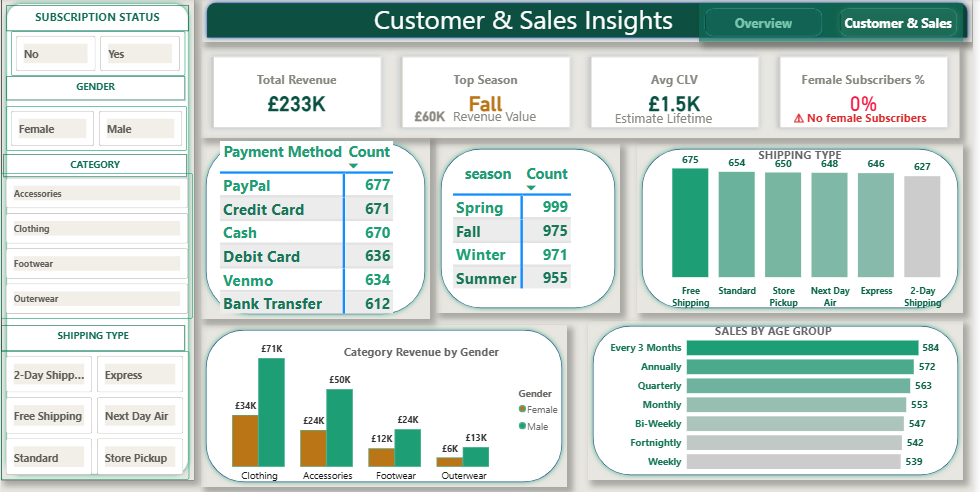

This screenshot's page, from the dashboard's own definition file:
{"tool":"powerbi","page":{"name":"Customer & Sales","canvas":[1600,820],"ordinal":1},"visuals":[{"type":"cardVisual","fields":{"Data":["customer_data._Total Revenue","customer_data.Top Season","customer_data.Avg CLV","customer_data.Female Subscribers %"]},"box":[330,80.3,1248.6,149.8],"z":0},{"type":"shape","box":[331.8,0,1268.2,73.1],"z":1000},{"type":"textbox","box":[309.6,0,1101.6,72.4],"z":2000},{"type":"textbox","box":[1300.3,180.2,283.6,51.7],"z":3000},{"type":"shape","box":[1047.2,240.4,536.8,278.3],"z":6000},{"type":"textbox","box":[972.1,178.4,239,51.7],"z":7000},{"type":"clusteredColumnChart","fields":{"Category":["customer_data.shipping_type"],"Y":["CountNonNull(customer_data.shipping_type)"]},"box":[1058.8,240.4,525.3,278.3],"z":8000},{"type":"shape","box":[329.3,538.4,602.7,266.7],"z":9000},{"type":"textbox","box":[1142.7,240.4,345.8,51],"z":10000},{"type":"shape","box":[329.3,230.5,377.1,298],"z":11000},{"type":"clusteredColumnChart","fields":{"Category":["customer_data.category"],"Series":["customer_data.gender"],"Y":["customer_data._Total Revenue"]},"box":[331.8,551.2,601.1,255.1],"z":12000},{"type":"textbox","box":[553.3,564.8,278.3,52.7],"z":13000},{"type":"shape","box":[966.5,531.8,617.5,261.8],"z":16000},{"type":"shape","box":[0,0,317.8,793.7],"z":18000},{"type":"advancedSlicerVisual","fields":{"Values":["customer_data.subscription_status"]},"box":[16.5,54.3,286.5,74.1],"z":19000},{"type":"textbox","box":[1132.9,530.2,278.3,51],"z":20000},{"type":"textbox","box":[0,538.4,303,42.8],"z":21000},{"type":"textbox","box":[3.3,256.9,303,37.9],"z":22000},{"type":"textbox","box":[8.2,128.4,294.7,39.5],"z":23000},{"type":"textbox","box":[8.2,11.5,301.3,42.8],"z":24000},{"type":"advancedSlicerVisual","fields":{"Values":["customer_data.gender"]},"box":[8.2,177.8,298,74.1],"z":27000},{"type":"advancedSlicerVisual","fields":{"Values":["customer_data.category"]},"box":[0,288.2,316.1,240.4],"z":28000},{"type":"advancedSlicerVisual","fields":{"Values":["customer_data.shipping_type"]},"box":[0,581.2,309.6,212.4],"z":29000},{"type":"pageNavigator","box":[1149.3,8.2,434.7,64.2],"z":30001},{"type":"card","fields":{"Values":["customer_data.Top Season Revenue"]},"box":[645.7,174.8,121.3,41],"z":30002},{"type":"textbox","box":[693.9,174.8,239,51.7],"z":30003},{"type":"pivotTable","fields":{"Rows":["customer_data.payment_method"],"Values":["CountNonNull(customer_data.payment_method)"]},"box":[355.7,230.5,360.6,299.7],"z":30004},{"type":"shape","box":[716.3,240.4,303,278.3],"z":30005},{"type":"pivotTable","fields":{"Rows":["customer_data.season"],"Values":["CountNonNull(customer_data.payment_method)"]},"box":[739.3,266.7,279.9,238.8],"z":30006},{"type":"barChart","fields":{"Category":["customer_data.frequency_of_purchases"],"Y":["CountNonNull(customer_data.frequency_of_purchases)"]},"box":[996.2,538.4,553.3,255.2],"z":30007}]}

Visuals, with their boxes in screenshot pixels (x1, y1, x2, y2), scaled from the page's 1600x820 canvas onto the 980x492 screenshot:
cardVisual - customer_data._Total Revenue x customer_data.Top Season: select_region(202, 48, 967, 138)
shape: select_region(203, 0, 979, 44)
textbox: select_region(190, 0, 864, 43)
textbox: select_region(796, 108, 970, 139)
shape: select_region(641, 144, 970, 311)
textbox: select_region(595, 107, 742, 138)
clusteredColumnChart - customer_data.shipping_type x CountNonNull(customer_data.shipping_type): select_region(649, 144, 970, 311)
shape: select_region(202, 323, 571, 483)
textbox: select_region(700, 144, 912, 175)
shape: select_region(202, 138, 433, 317)
clusteredColumnChart - customer_data.category x customer_data.gender: select_region(203, 331, 571, 484)
textbox: select_region(339, 339, 509, 370)
shape: select_region(592, 319, 970, 476)
shape: select_region(0, 0, 195, 476)
advancedSlicerVisual - customer_data.subscription_status: select_region(10, 33, 186, 77)
textbox: select_region(694, 318, 864, 349)
textbox: select_region(0, 323, 186, 349)
textbox: select_region(2, 154, 188, 177)
textbox: select_region(5, 77, 186, 101)
textbox: select_region(5, 7, 190, 33)
advancedSlicerVisual - customer_data.gender: select_region(5, 107, 188, 151)
advancedSlicerVisual - customer_data.category: select_region(0, 173, 194, 317)
advancedSlicerVisual - customer_data.shipping_type: select_region(0, 349, 190, 476)
pageNavigator: select_region(704, 5, 970, 43)
card - customer_data.Top Season Revenue: select_region(395, 105, 470, 129)
textbox: select_region(425, 105, 571, 136)
pivotTable - customer_data.payment_method x CountNonNull(customer_data.payment_method): select_region(218, 138, 439, 318)
shape: select_region(439, 144, 624, 311)
pivotTable - customer_data.season x CountNonNull(customer_data.payment_method): select_region(453, 160, 624, 303)
barChart - customer_data.frequency_of_purchases x CountNonNull(customer_data.frequency_of_purchases): select_region(610, 323, 949, 476)
